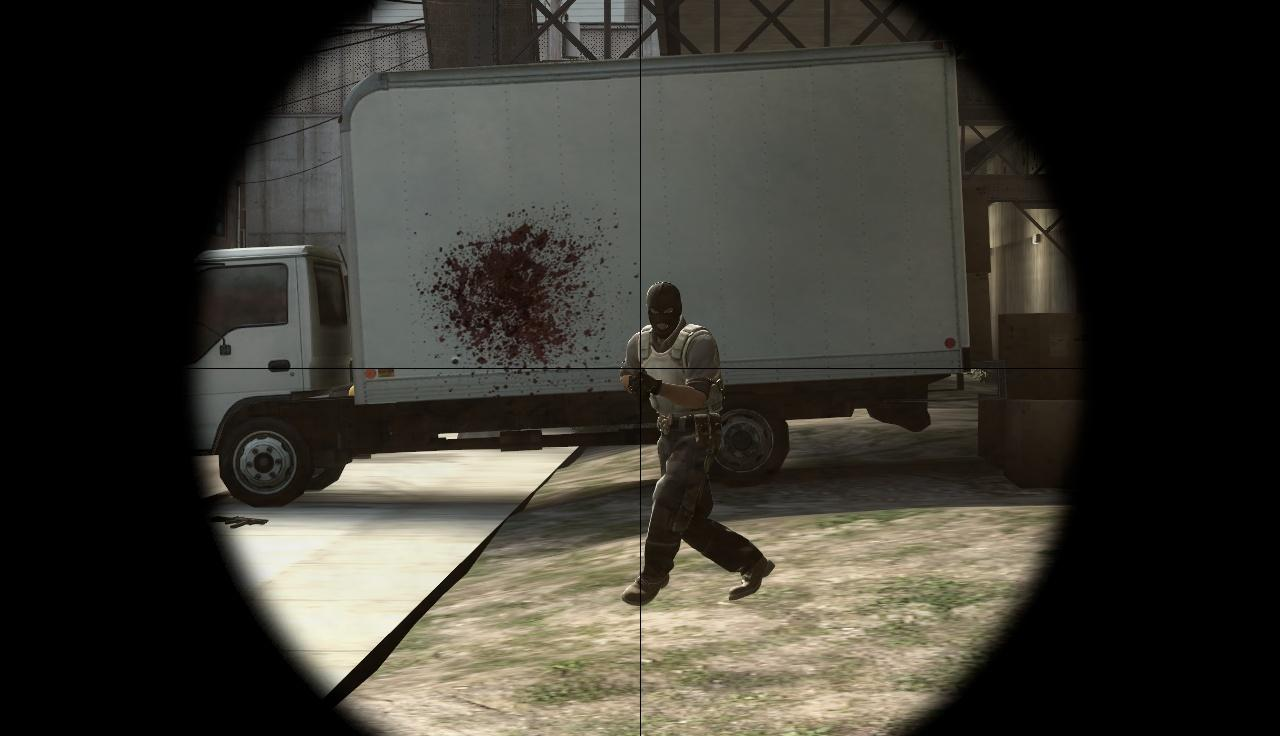tt: (623, 283, 729, 602)
tthead: (647, 283, 680, 336)
